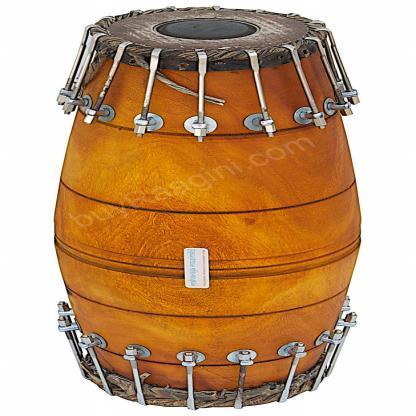Mridangam: (47, 1, 356, 403)
